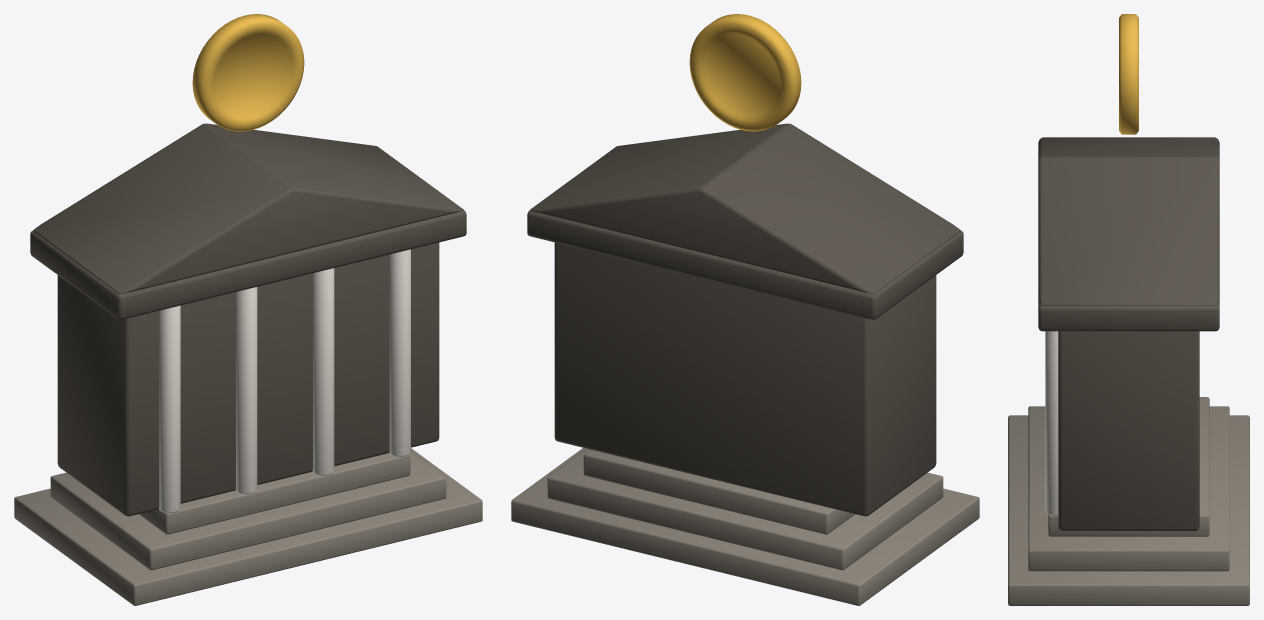
The model's file is financeiro.glb.
3 views of the same model, side by side, from view 1: azimuth 30°, elevation 25°; view 2: azimuth 150°, elevation 25°; view 3: azimuth 270°, elevation 25° (orthographic).
Parts seen in each view (by area): view 1: Banco, Moeda; view 2: Banco, Moeda; view 3: Banco, Moeda.
Part boxes in pixels (x1=…): Banco: x1=14, y1=123, x2=482, y2=605; Moeda: x1=192, y1=14, x2=304, y2=131; Banco: x1=511, y1=123, x2=979, y2=605; Moeda: x1=689, y1=14, x2=801, y2=131; Banco: x1=1008, y1=137, x2=1249, y2=605; Moeda: x1=1119, y1=14, x2=1138, y2=134.
Bounding box in the file's own units: 0.7273 × 1 × 0.4364.
